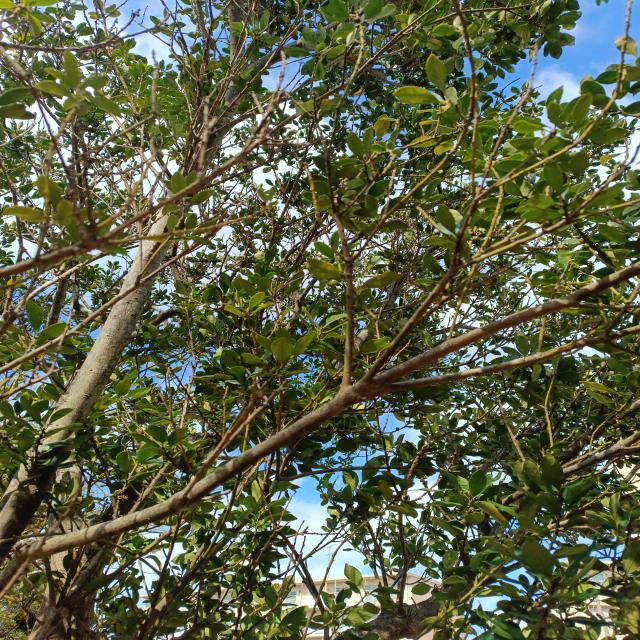Branch: (8, 261, 640, 561), (0, 209, 176, 566)
Twig: (359, 168, 622, 383), (1, 116, 294, 279), (378, 326, 640, 395), (451, 152, 535, 267), (328, 146, 355, 384), (44, 116, 87, 240), (94, 146, 154, 228), (83, 129, 97, 236)
